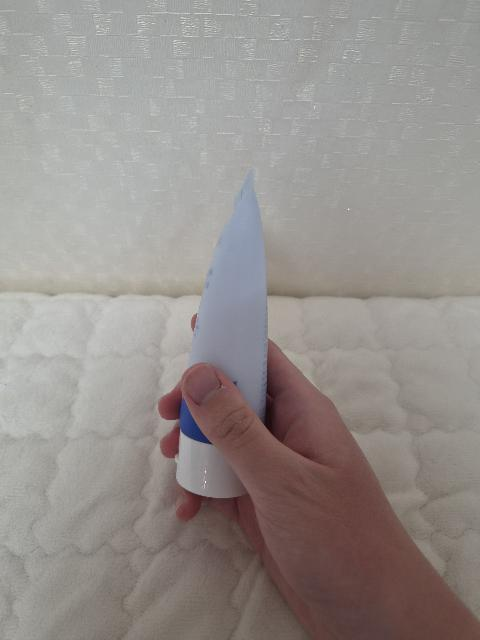handcream: (175, 170, 268, 498)
